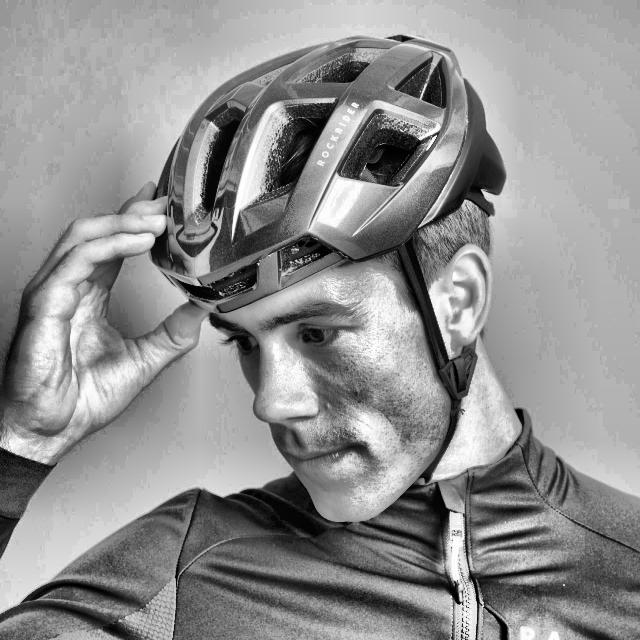Helmet: (136, 26, 521, 518)
